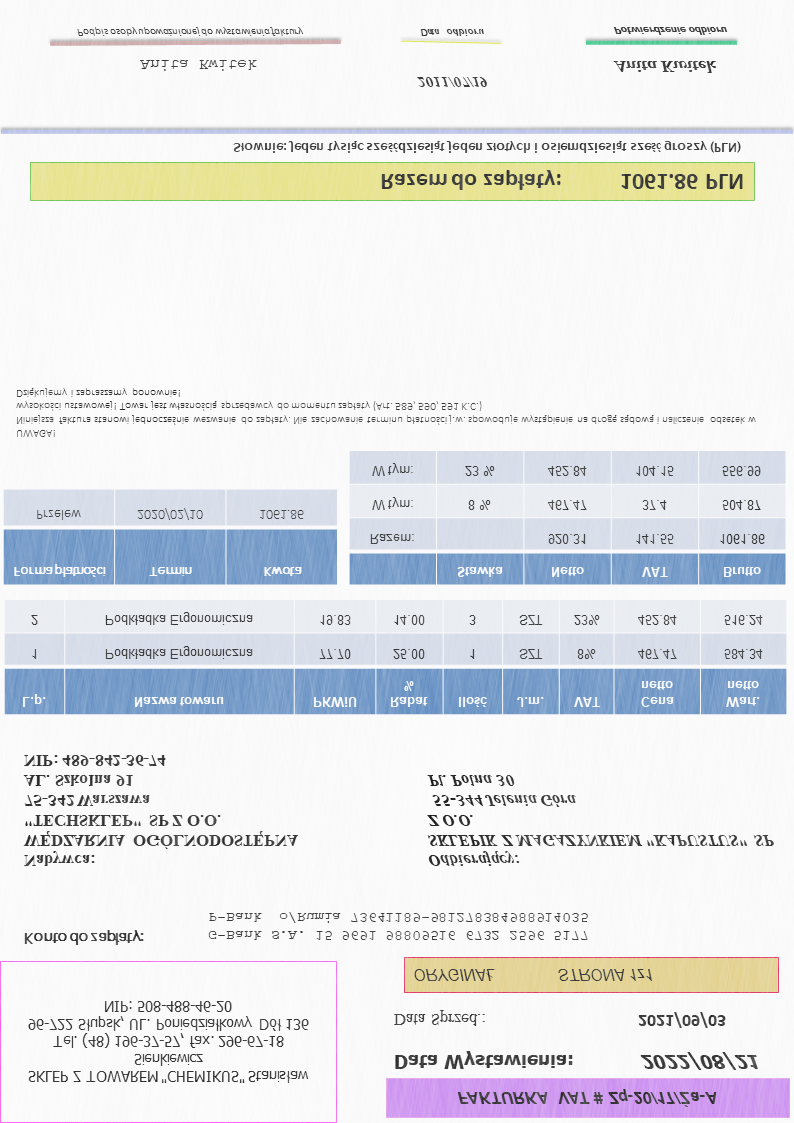Table: (2, 595, 788, 719), (345, 449, 787, 586), (2, 487, 341, 588)
TextBox: (13, 385, 760, 443), (423, 768, 776, 869), (19, 748, 304, 871), (20, 995, 315, 1089), (201, 909, 593, 944), (229, 138, 743, 159), (377, 170, 747, 197), (451, 1086, 724, 1113), (411, 964, 655, 986), (390, 1048, 577, 1074), (72, 25, 308, 40), (639, 1051, 761, 1076), (18, 927, 147, 949), (388, 1009, 490, 1030), (137, 57, 256, 74), (609, 58, 721, 76), (635, 1010, 729, 1029), (611, 23, 732, 37), (415, 74, 492, 91), (418, 26, 490, 40)
